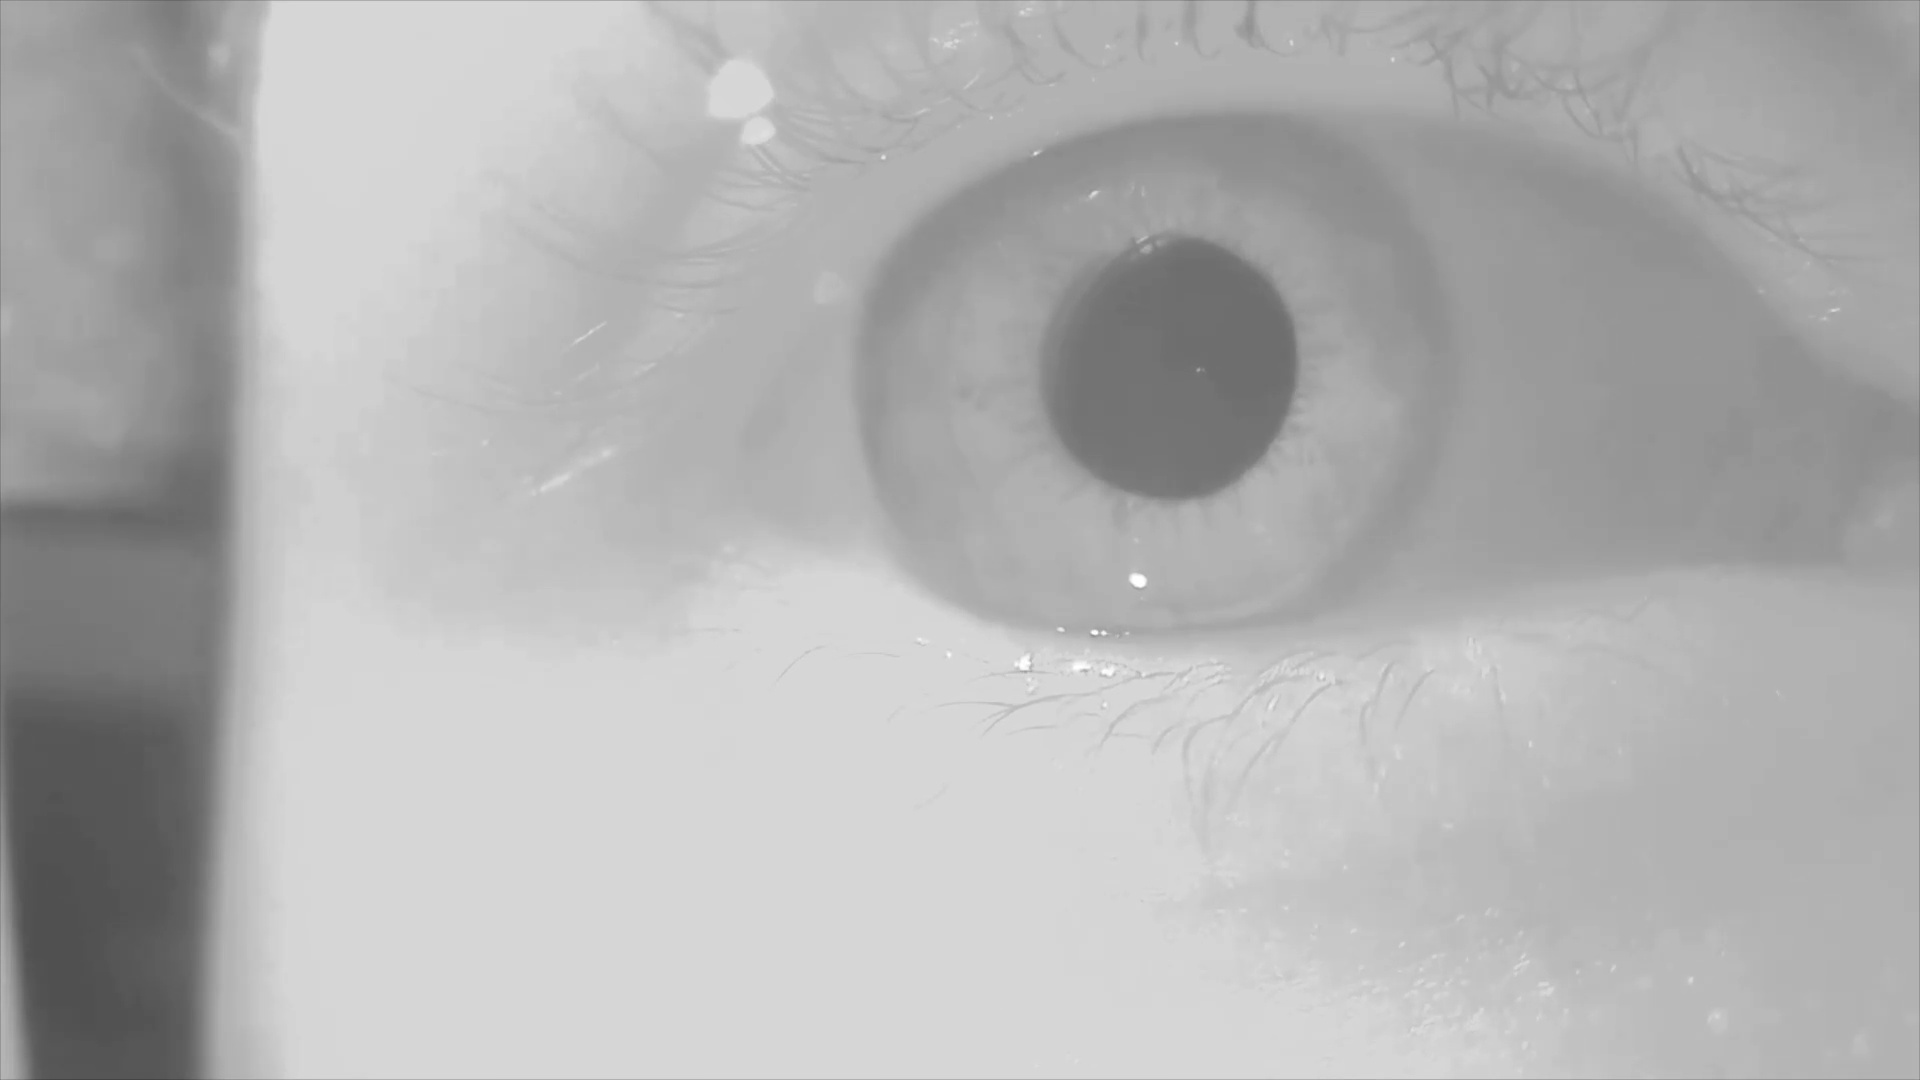pupil: (1039, 233, 1300, 510)
